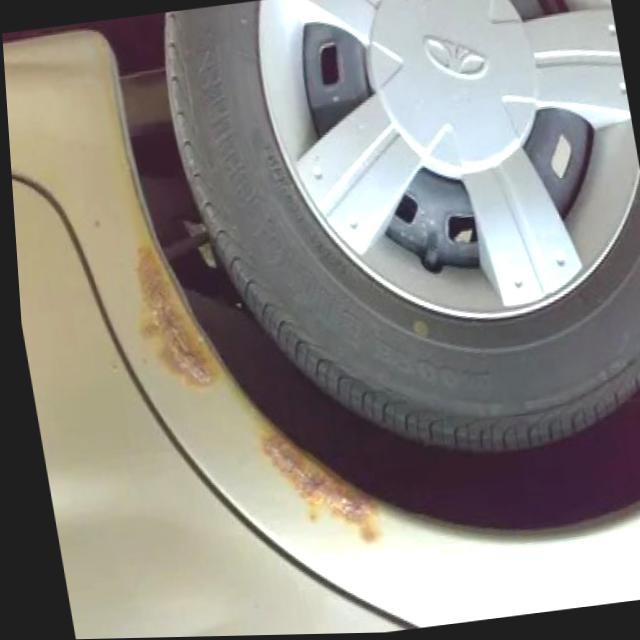Rust: (254, 413, 388, 547), (130, 231, 223, 392)
